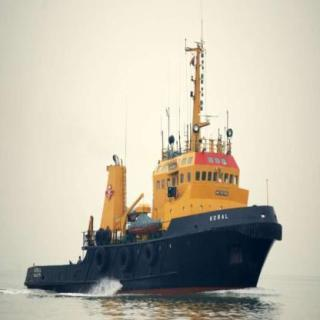Tug Boat: (26, 130, 280, 294)
